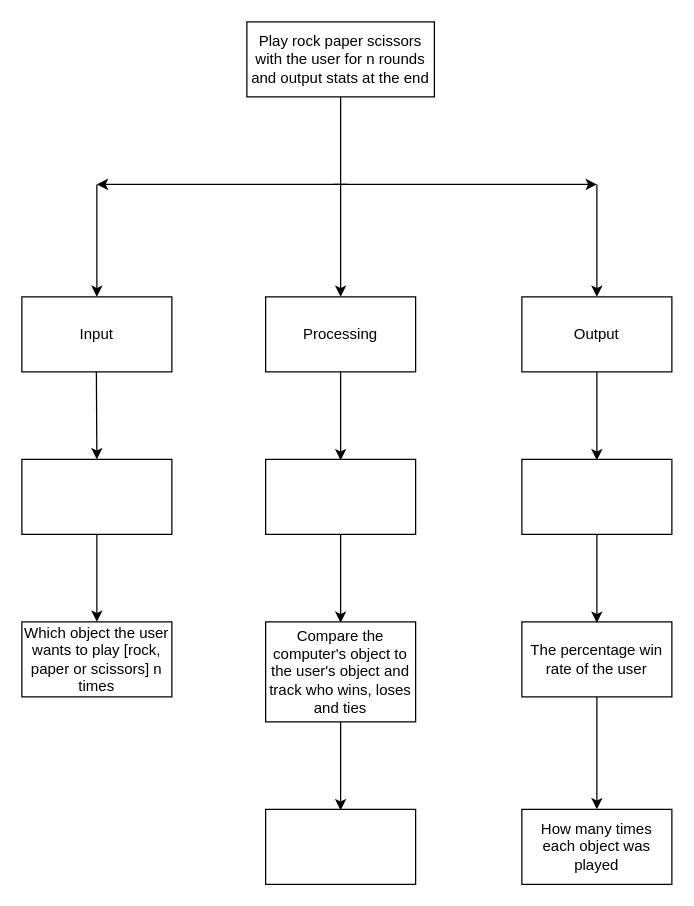
This 694x906 diagram has some shape labels left out. Here are the shapes that lost their labels. From the top down, the centre of each, then its label:
the point at 96,496: The number of times the user wants to play
the point at 340,496: Generate a random number so the computer can play
the point at 596,496: What the computer played and who won
the point at 340,846: Store all of the data in arrays
